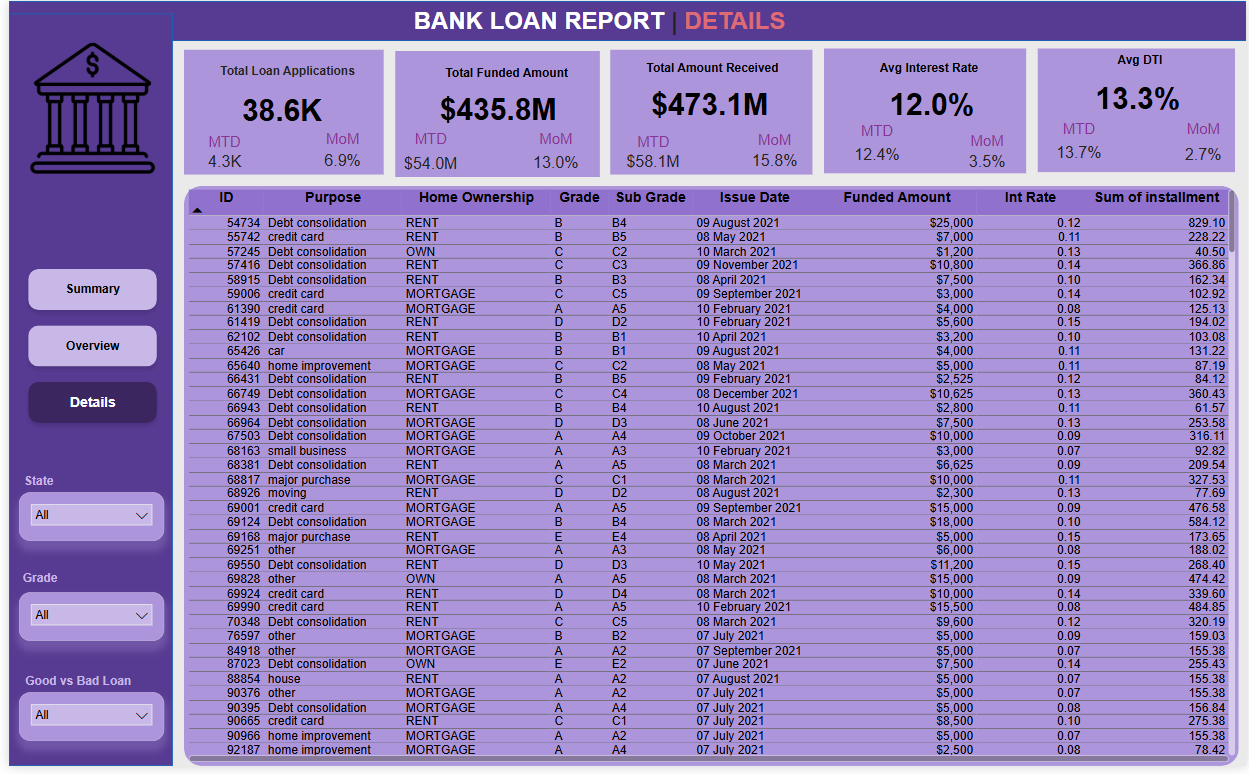

Layout of this report page (visuals, bound fields, positions):
{"tool":"powerbi","page":{"name":"Details","canvas":[1650,1020],"ordinal":2},"visuals":[{"type":"shape","box":[0,0,1650,53.3],"z":0},{"type":"shape","box":[0,16.7,218.3,1003.3],"z":1000},{"type":"textbox","box":[516.7,3.3,575,53.3],"z":2000},{"type":"shape","box":[1371,64,263.3,165],"z":2000,"group":"g5"},{"type":"shape","box":[1086,64.1,270,166.7],"z":2000,"group":"g4"},{"type":"shape","box":[233.5,64.6,266.7,166.7],"z":2000,"group":"g1"},{"type":"shape","box":[802,65.2,270,166.7],"z":2000,"group":"g3"},{"type":"shape","box":[514.7,66.5,273.3,168.3],"z":2000,"group":"g2"},{"type":"group","id":"g1","title":"Group 1","box":[233.5,64.6,266.7,169],"z":3000},{"type":"card","fields":{"Values":["bankloandataset.Total Amount Received"]},"box":[815.5,104.9,238.3,61.7],"z":4000,"group":"g3"},{"type":"card","fields":{"Values":["bankloandataset.Avg DTI"]},"box":[1399.4,108,210.6,43.3],"z":4000,"group":"g5"},{"type":"card","fields":{"Values":["bankloandataset.Average Interest Rate"]},"box":[1121,110.6,218.3,51.7],"z":4000,"group":"g4"},{"type":"card","fields":{"Values":["bankloandataset.Total Funded Amount"]},"box":[534.7,116.5,235,53.3],"z":4000,"group":"g2"},{"type":"card","fields":{"Values":["bankloandataset.Total Loan Applications"]},"box":[259.3,118.6,211.7,51.7],"z":4000,"group":"g1"},{"type":"shape","box":[233.3,246.7,1406.7,773.3],"z":4000},{"type":"textbox","box":[1371,66.3,272.5,40],"z":5000,"group":"g5"},{"type":"group","id":"g2","title":"Group 1","box":[507.8,66.5,280.3,173.3],"z":5000},{"type":"textbox","box":[815.5,75.1,233.3,36.7],"z":5000,"group":"g3"},{"type":"textbox","box":[1107.6,75.6,236.7,33.3],"z":5000,"group":"g4"},{"type":"textbox","box":[262.6,80.2,215,45],"z":5000,"group":"g1"},{"type":"textbox","box":[534.7,81.5,231.7,36.7],"z":5000,"group":"g2"},{"type":"group","id":"g3","title":"Group 1","box":[801.6,65.2,270.4,166.7],"z":6000},{"type":"card","title":"MTD","fields":{"Values":["bankloandataset.MTD Avg DTI"]},"box":[1379.3,159.1,93.3,66.7],"z":6000,"group":"g5"},{"type":"card","title":"MTD","fields":{"Values":["bankloandataset.MTD Avg Int Rate"]},"box":[1094.3,162.2,125,65],"z":6000,"group":"g4"},{"type":"card","title":"MTD","fields":{"Values":["bankloandataset.MTD Funded Amount"]},"box":[507.8,171.5,108.3,68.3],"z":6000,"group":"g2"},{"type":"card","title":"MTD","fields":{"Values":["bankloandataset.MTD Total Amount Received"]},"box":[801.6,176.6,115,53.3],"z":6000,"group":"g3"},{"type":"card","title":"MTD","fields":{"Values":["bankloandataset.MTD Loan Applications"]},"box":[239.3,176.9,98.3,55],"z":6000,"group":"g1"},{"type":"group","id":"g4","title":"Group 1","box":[1086,64.1,270,168.2],"z":7000},{"type":"card","title":"MoM","fields":{"Values":["bankloandataset.MoM Avg DTI"]},"box":[1542.7,159.1,98.3,71.7],"z":7000,"group":"g5"},{"type":"card","title":"MoM","fields":{"Values":["bankloandataset.MoM Total Funded Amount"]},"box":[676.4,171.5,105,66.7],"z":7000,"group":"g2"},{"type":"card","title":"MoM","fields":{"Values":["bankloandataset.MoM Loan Applications"]},"box":[399.3,171.9,93.3,61.7],"z":7000,"group":"g1"},{"type":"card","title":"MoM","fields":{"Values":["bankloandataset.MoM Total Amount Received"]},"box":[971.6,173.3,98.3,58.3],"z":7000,"group":"g3"},{"type":"card","title":"MoM","fields":{"Values":["bankloandataset.MoM Avg Int Rate"]},"box":[1256,175.6,95,56.7],"z":7000,"group":"g4"},{"type":"group","id":"g5","title":"Group 1","box":[1371,64,272.5,166.8],"z":8000},{"type":"slicer","fields":{"Values":["bankloandataset.address_state"]},"box":[13.3,655,193.3,65],"z":9000},{"type":"textbox","box":[15,626.7,96.7,28.3],"z":10000},{"type":"slicer","fields":{"Values":["bankloandataset.grade"]},"box":[13.3,788.3,193.3,65],"z":11000},{"type":"textbox","box":[13.3,755,96.7,33.3],"z":12000},{"type":"slicer","fields":{"Values":["bankloandataset.Good Vs Bad Loan"]},"box":[13.3,921.7,193.3,65],"z":13000},{"type":"textbox","box":[16.7,893.3,190,28.3],"z":14000},{"type":"tableEx","fields":{"Values":["bankloandataset.id","bankloandataset.purpose","bankloandataset.home_ownership","bankloandataset.grade","bankloandataset.sub_grade","bankloandataset.issue_date","bankloandataset.Total Funded Amount","Sum(bankloandataset.int_rate)","Sum(bankloandataset.installment)"]},"box":[233.3,246.7,1406.7,773.3],"z":15000},{"type":"pageNavigator","box":[16.7,348.3,190,225],"z":16000},{"type":"image","box":[16.7,21.7,190,241.7],"z":17000}]}

Visuals, with their boxes in screenshot pixels (x1, y1, x2, y2), scaled from the page's 1650x1020 canvas onto the 1249x774 screenshot:
shape: box(0, 0, 1248, 40)
shape: box(0, 13, 165, 773)
textbox: box(391, 3, 826, 43)
shape: box(1038, 49, 1237, 174)
shape: box(822, 49, 1026, 175)
shape: box(177, 49, 379, 176)
shape: box(607, 49, 811, 176)
shape: box(390, 50, 596, 178)
"Group 1" group: box(177, 49, 379, 177)
card - bankloandataset.Total Amount Received: box(617, 80, 798, 126)
card - bankloandataset.Avg DTI: box(1059, 82, 1219, 115)
card - bankloandataset.Average Interest Rate: box(849, 84, 1014, 123)
card - bankloandataset.Total Funded Amount: box(405, 88, 583, 129)
card - bankloandataset.Total Loan Applications: box(196, 90, 357, 129)
shape: box(177, 187, 1241, 773)
textbox: box(1038, 50, 1244, 81)
"Group 1" group: box(384, 50, 597, 182)
textbox: box(617, 57, 794, 85)
textbox: box(838, 57, 1018, 83)
textbox: box(199, 61, 362, 95)
textbox: box(405, 62, 580, 90)
"Group 1" group: box(607, 49, 811, 176)
"MTD" card: box(1044, 121, 1115, 171)
"MTD" card: box(828, 123, 923, 172)
"MTD" card: box(384, 130, 466, 182)
"MTD" card: box(607, 134, 694, 174)
"MTD" card: box(181, 134, 256, 176)
"Group 1" group: box(822, 49, 1026, 176)
"MoM" card: box(1168, 121, 1242, 175)
"MoM" card: box(512, 130, 591, 181)
"MoM" card: box(302, 130, 373, 177)
"MoM" card: box(735, 132, 810, 176)
"MoM" card: box(951, 133, 1023, 176)
"Group 1" group: box(1038, 49, 1244, 175)
slicer - bankloandataset.address_state: box(10, 497, 156, 546)
textbox: box(11, 476, 85, 497)
slicer - bankloandataset.grade: box(10, 598, 156, 648)
textbox: box(10, 573, 83, 598)
slicer - bankloandataset.Good Vs Bad Loan: box(10, 699, 156, 749)
textbox: box(13, 678, 156, 699)
tableEx - bankloandataset.id x bankloandataset.purpose: box(177, 187, 1241, 773)
pageNavigator: box(13, 264, 156, 435)
image: box(13, 16, 156, 200)
